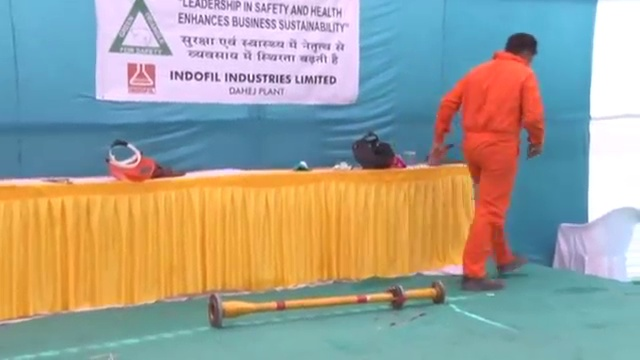helmet_off: (503, 30, 539, 63)
person: (429, 29, 551, 293)
